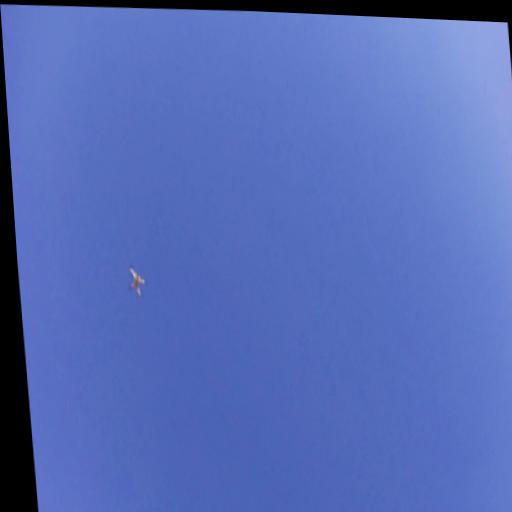drones: (125, 257, 150, 304)
